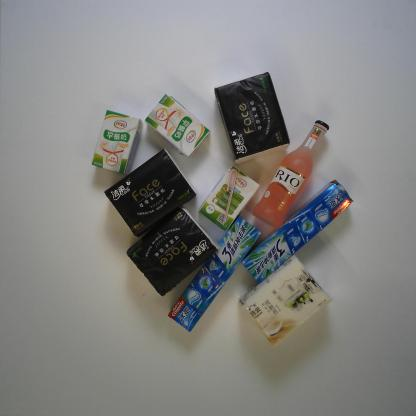Alcohol: (251, 119, 330, 231)
Milk: (144, 93, 210, 158), (198, 165, 260, 233), (91, 109, 143, 175)
Personal Hygiene: (240, 178, 355, 286), (167, 215, 262, 333)
Tissue: (237, 254, 333, 349), (103, 148, 198, 238), (126, 207, 219, 297), (213, 71, 290, 165)
